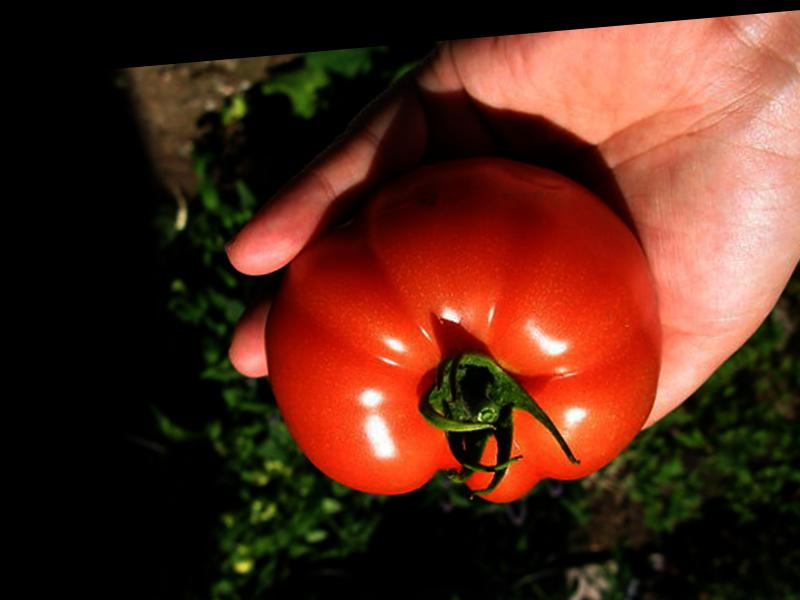Tomato: (251, 148, 670, 521)
